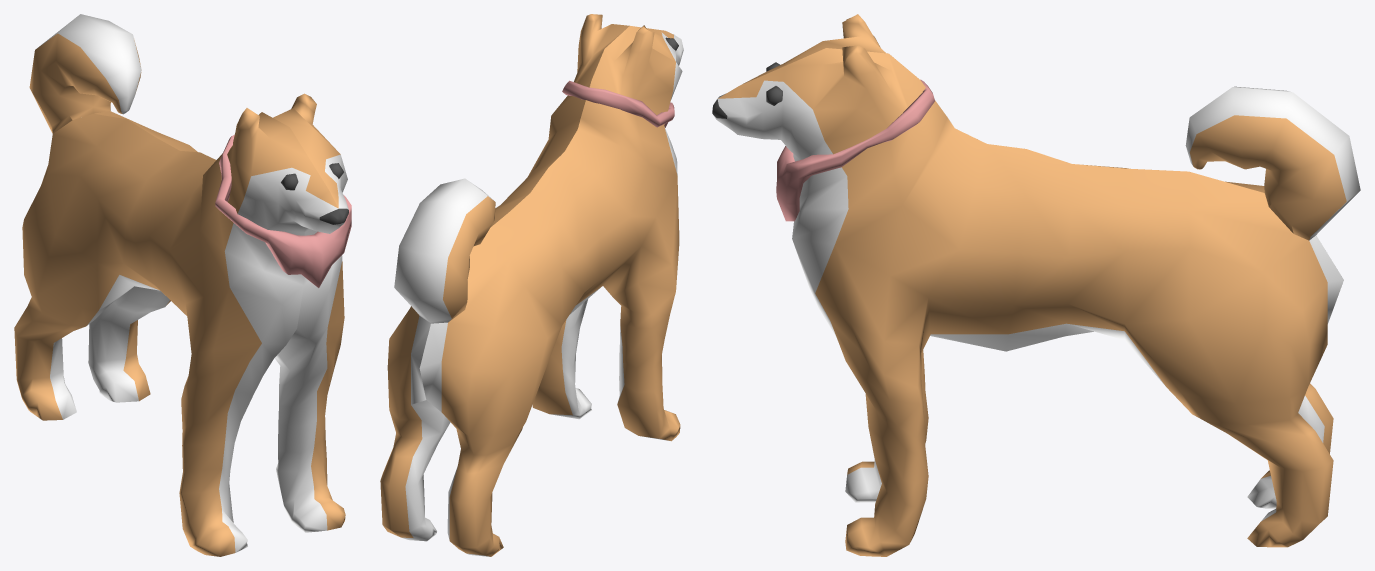
The model's file is shibainu#0000.fbx.
3 renders of one model, left to right at view 1: azimuth 30°, elevation 25°; view 2: azimuth 150°, elevation 25°; view 3: azimuth 270°, elevation 25°, orthographic. The views are drawn at different scales.
Parts seen in each view (by area): view 1: shibainu; view 2: shibainu; view 3: shibainu.
Part boxes in pixels (bbox=[...]): shibainu: bbox=[14, 14, 351, 556]; shibainu: bbox=[380, 14, 683, 556]; shibainu: bbox=[712, 14, 1360, 556].
Size of the model in its own units: 2276 by 6225 by 7488.
